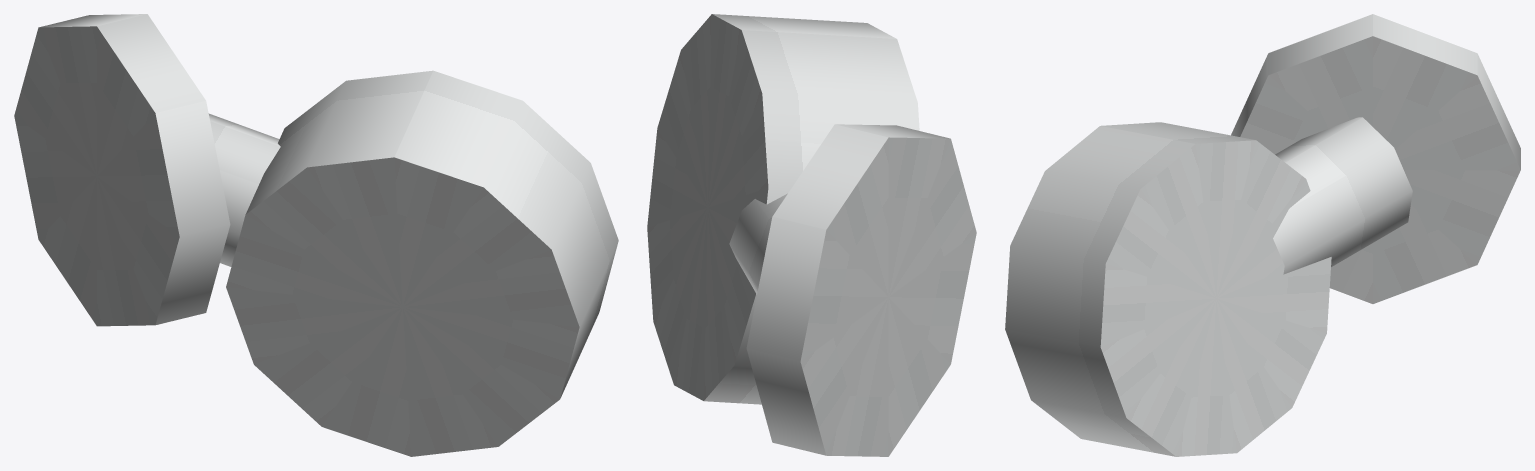
File: nycsignalarm_stub_108.obj
3 views of the same model, side by side, from view 1: azimuth 30°, elevation 25°; view 2: azimuth 150°, elevation 25°; view 3: azimuth 270°, elevation 25° (orthographic). The views are drawn at different scales.
Visible parts, largest first — view 1: nycsignalarm_stub_108; view 2: nycsignalarm_stub_108; view 3: nycsignalarm_stub_108.
Part boxes in pixels (x1=…): nycsignalarm_stub_108: x1=14, y1=14, x2=618, y2=456; nycsignalarm_stub_108: x1=647, y1=14, x2=976, y2=456; nycsignalarm_stub_108: x1=1005, y1=14, x2=1520, y2=456.
Bounding box in the file's own units: 0.4511 × 0.4445 × 0.61.
